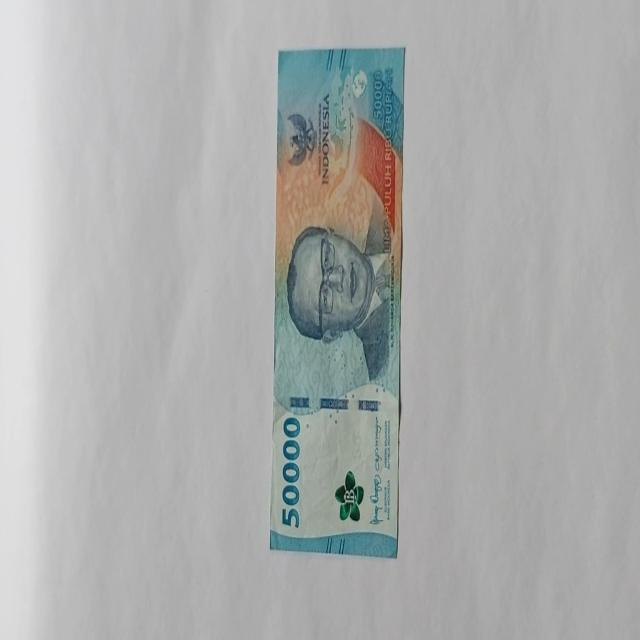lima puluh ribu rupiah: (270, 46, 404, 558)
